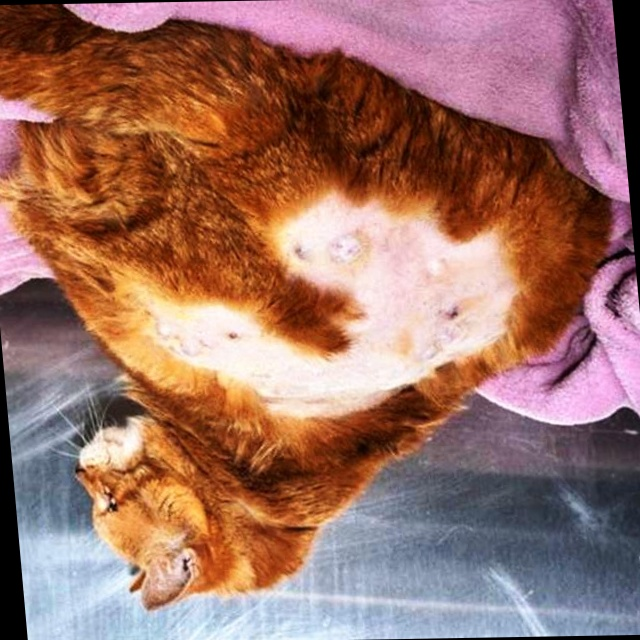hairloss: (162, 229, 505, 426)
